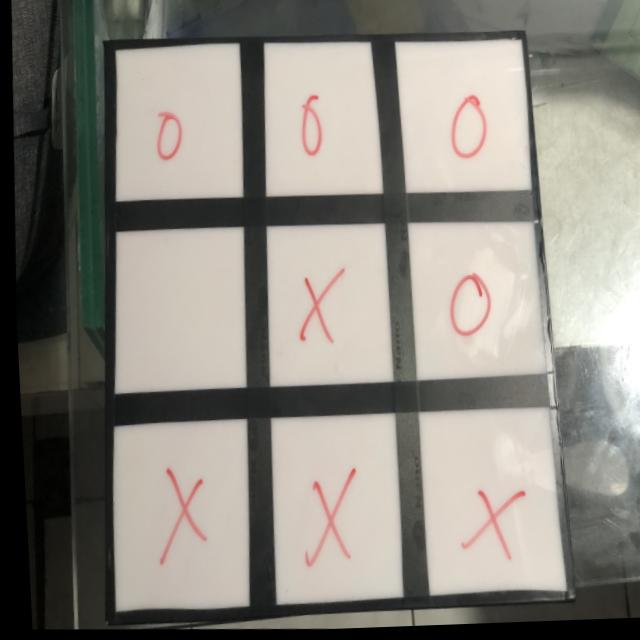null: (112, 225, 242, 393)
o: (438, 269, 499, 345), (440, 86, 493, 171), (293, 90, 328, 165), (148, 106, 188, 170)
table: (80, 29, 569, 625)
x: (291, 468, 361, 577), (149, 457, 211, 573), (446, 485, 532, 565), (285, 266, 347, 354)
